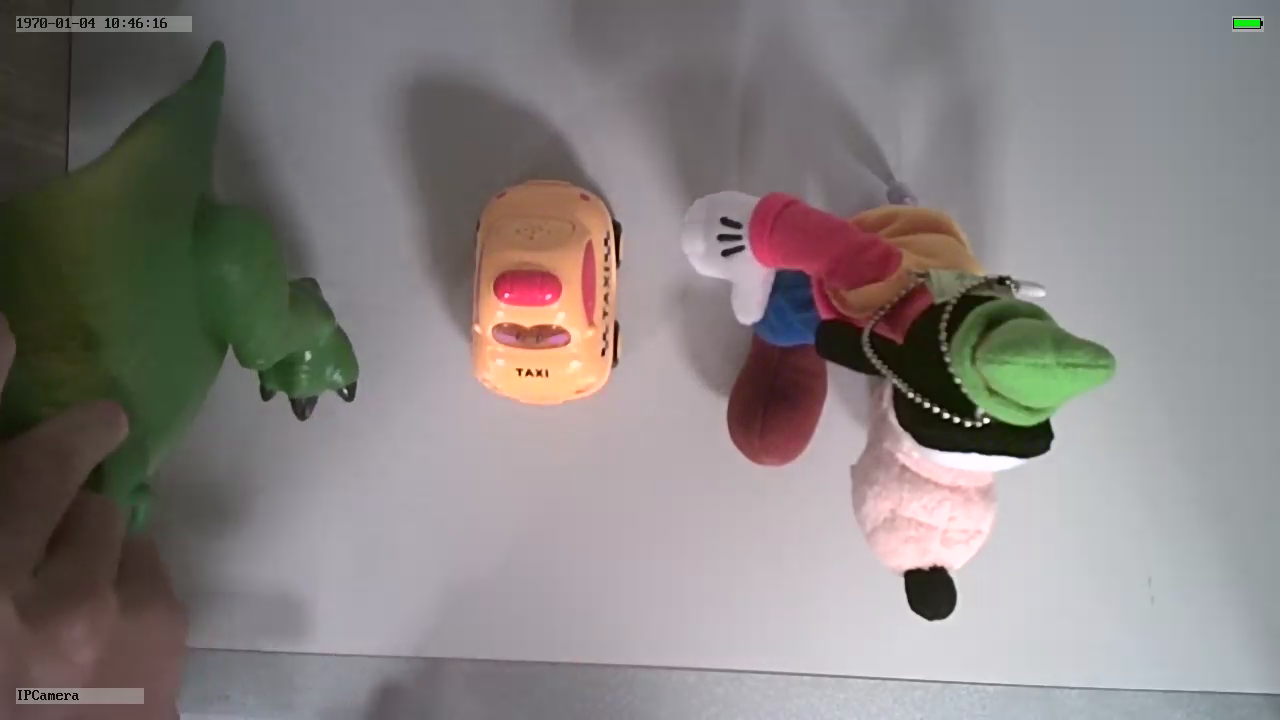goofy: (676, 185, 1119, 627)
